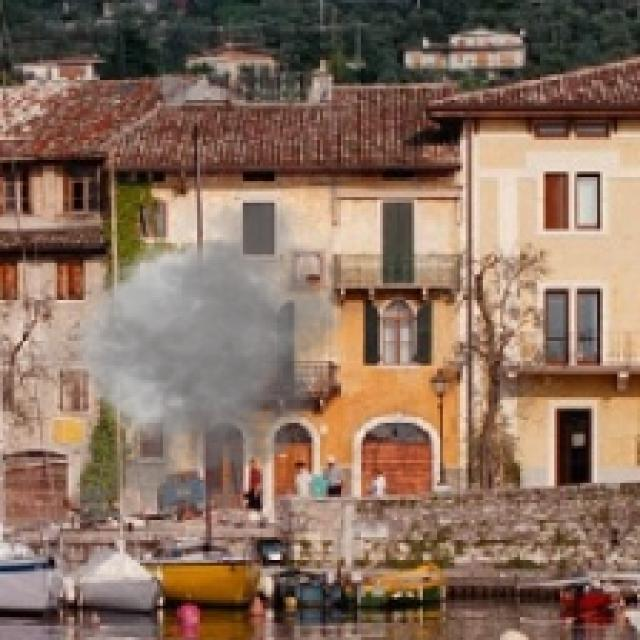smoke: (11, 186, 363, 534)
